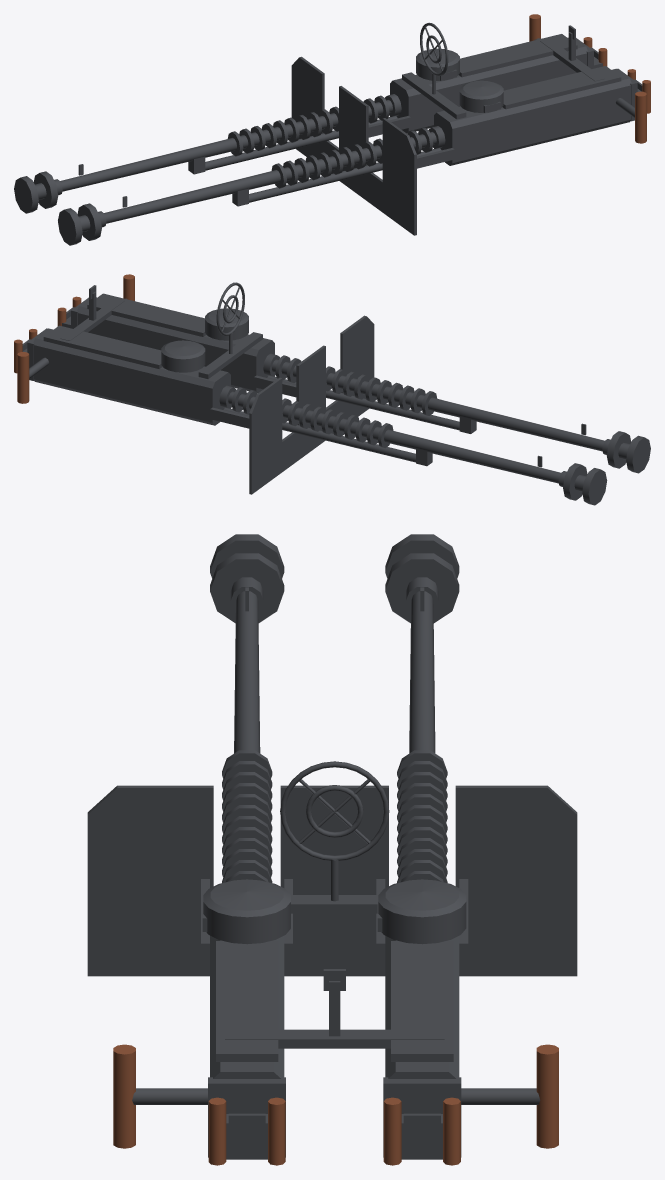
File: twin_dshk.obj
3 renders of one model, top to bottom at view 1: azimuth 30°, elevation 25°; view 2: azimuth 150°, elevation 25°; view 3: azimuth 270°, elevation 25°, orthographic. The views are drawn at different scales.
Visible parts, largest first — view 1: barrel_0, barrel_1; view 2: barrel_0, barrel_1; view 3: barrel_0, barrel_1.
Part boxes in pixels (x1,y1,x2,y2): barrel_0: (14,22,642,245); barrel_1: (529,14,650,143); barrel_0: (22,282,650,505); barrel_1: (14,274,134,403); barrel_0: (87,534,577,1159); barrel_1: (113,1044,558,1165).
Bounding box in the file's own units: 1.79 × 0.4335 × 0.66.
